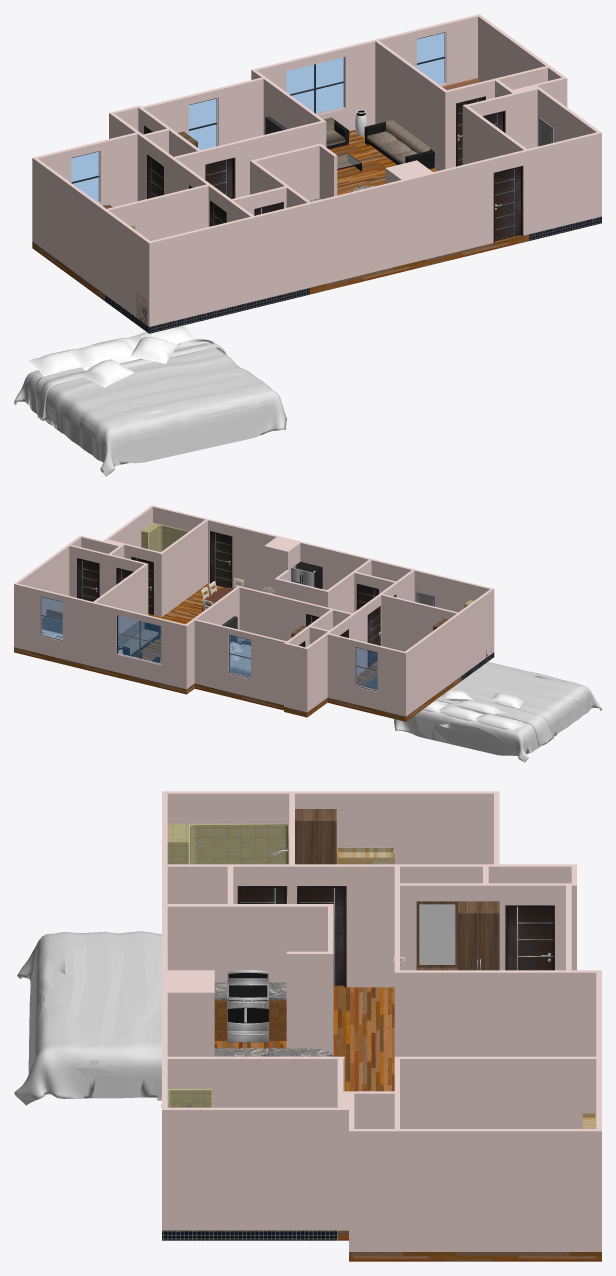
The model's file is 3BED+Fur.glb.
3 renders of one model, top to bottom at view 1: azimuth 30°, elevation 25°; view 2: azimuth 150°, elevation 25°; view 3: azimuth 270°, elevation 25°, orthographic. The views are drawn at different scales.
Parts seen in each view (by area): view 1: G-Object.113, G-12, G-Object, C-Component#10, G-Object.006, G-Object.002, C-small window.001, _(Loose Entity), C-small window, C-small window.002, G-Object.050, G-Object.105 (+1 smaller); view 2: G-Object.113, G-12, G-Object, C-Component#10, G-Object.006, C-small window.001, C-small window.002, C-small window, C-Shower#2, G-Object.028, G-Object.254, G-12.001 (+3 smaller); view 3: G-Object.113, G-12, G-Object, C-Shower#1, G-Object.094, G-Object.233, G-Object.234, G-Object.237, G-Object.001, G-Object.061, G-Object.155, C-HRL desk shelf (+5 smaller).
Boxes of the visible parts, x1,y1,x2,y2 form: G-Object.113: [32, 14, 601, 326]; G-12: [14, 325, 286, 476]; G-Object: [32, 130, 529, 300]; C-Component#10: [286, 56, 345, 115]; G-Object.006: [495, 167, 520, 241]; G-Object.002: [105, 288, 309, 333]; C-small window.001: [188, 97, 218, 149]; _(Loose Entity): [337, 109, 417, 171]; C-small window: [416, 32, 446, 85]; C-small window.002: [71, 151, 100, 203]; G-Object.050: [206, 159, 232, 198]; G-Object.105: [147, 156, 163, 198]; G-Object.113: [14, 505, 494, 716]; G-12: [394, 661, 601, 762]; G-Object: [14, 583, 460, 721]; C-Component#10: [116, 615, 161, 665]; G-Object.006: [210, 532, 231, 587]; C-small window.001: [228, 634, 251, 679]; C-small window.002: [355, 647, 377, 691]; C-small window: [40, 596, 62, 641]; C-Shower#2: [141, 522, 188, 552]; G-Object.028: [77, 559, 98, 601]; G-Object.254: [291, 561, 322, 588]; G-12.001: [230, 642, 250, 677]; G-Object.113: [162, 791, 601, 1251]; G-12: [14, 931, 161, 1105]; G-Object: [214, 985, 601, 1261]; C-Shower#1: [167, 823, 289, 903]; G-Object.094: [507, 906, 553, 970]; G-Object.233: [458, 901, 499, 970]; G-Object.234: [416, 901, 457, 967]; G-Object.237: [295, 809, 336, 864]; G-Object.001: [162, 1230, 337, 1240]; G-Object.061: [299, 888, 344, 985]; G-Object.155: [227, 999, 268, 1031]; C-HRL desk shelf: [336, 847, 394, 864].
Bounding box in the file's own units: 17.68 × 5.22 × 10.8.
Materials: 60 (35 with a texture image).
